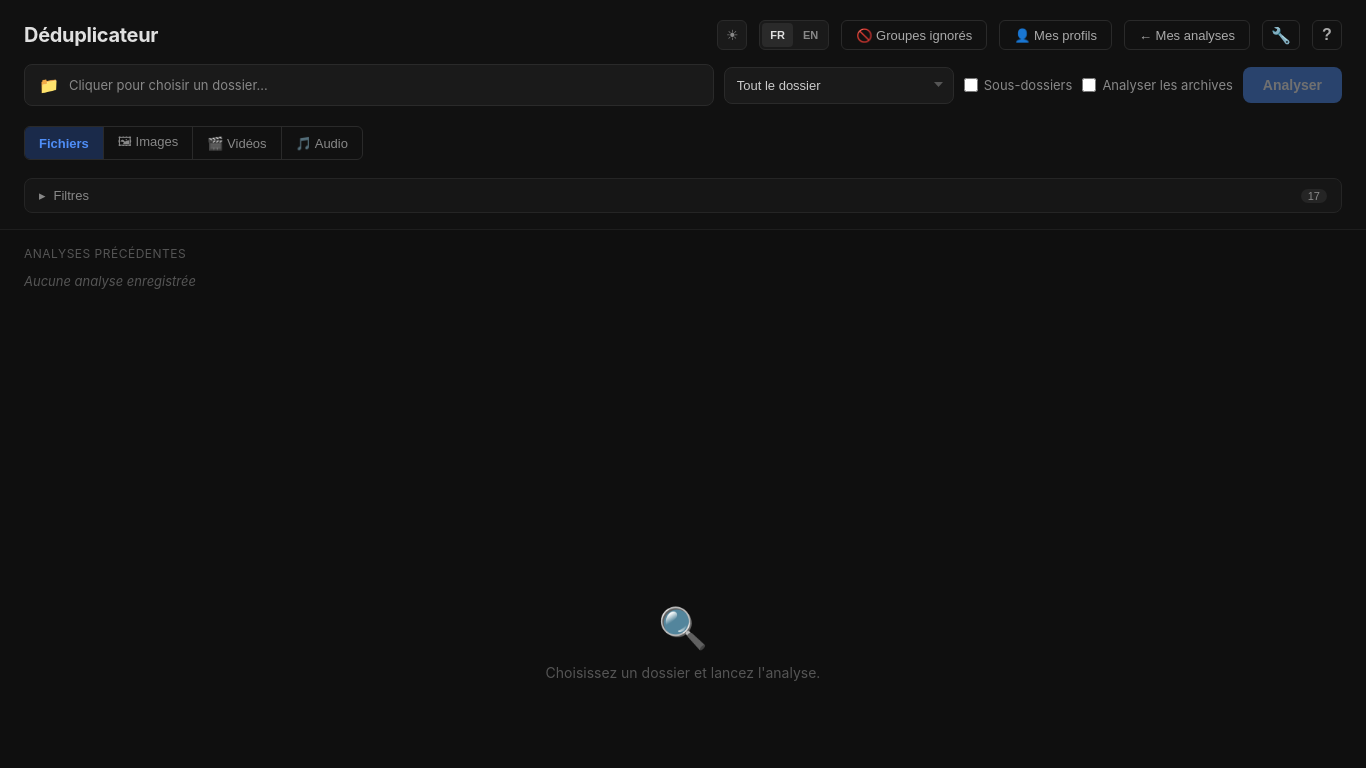
Test case: D - bannière d'erreur › affiche le message d'erreur quand scan_folder échoue
Click the text "Cliquer pour choisir un dossier…" at {"x": 168, "y": 85}, box [69, 77, 268, 93]
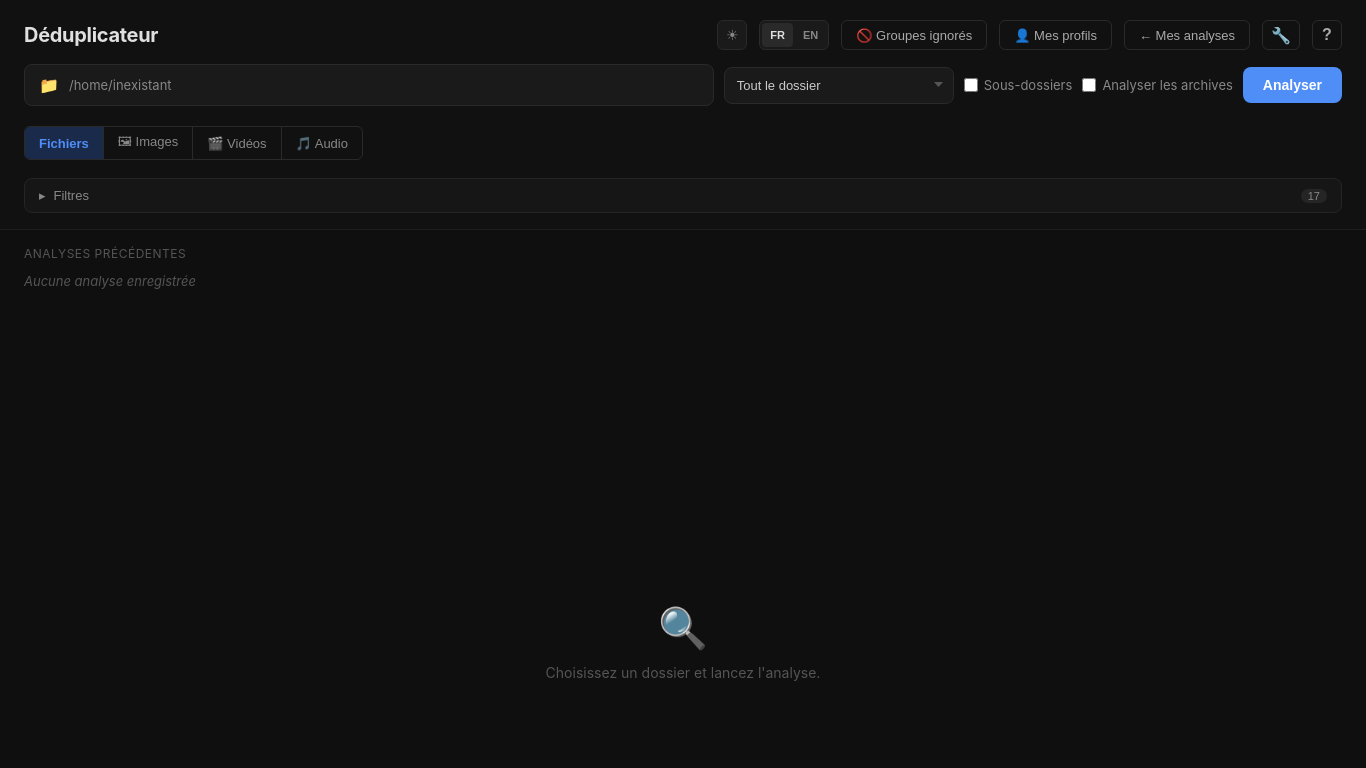
Result: the text "/home/inexistant" is shown at [69, 77, 172, 93]
Click the button "Analyser" at {"x": 1292, "y": 85}, box [1243, 67, 1342, 103]
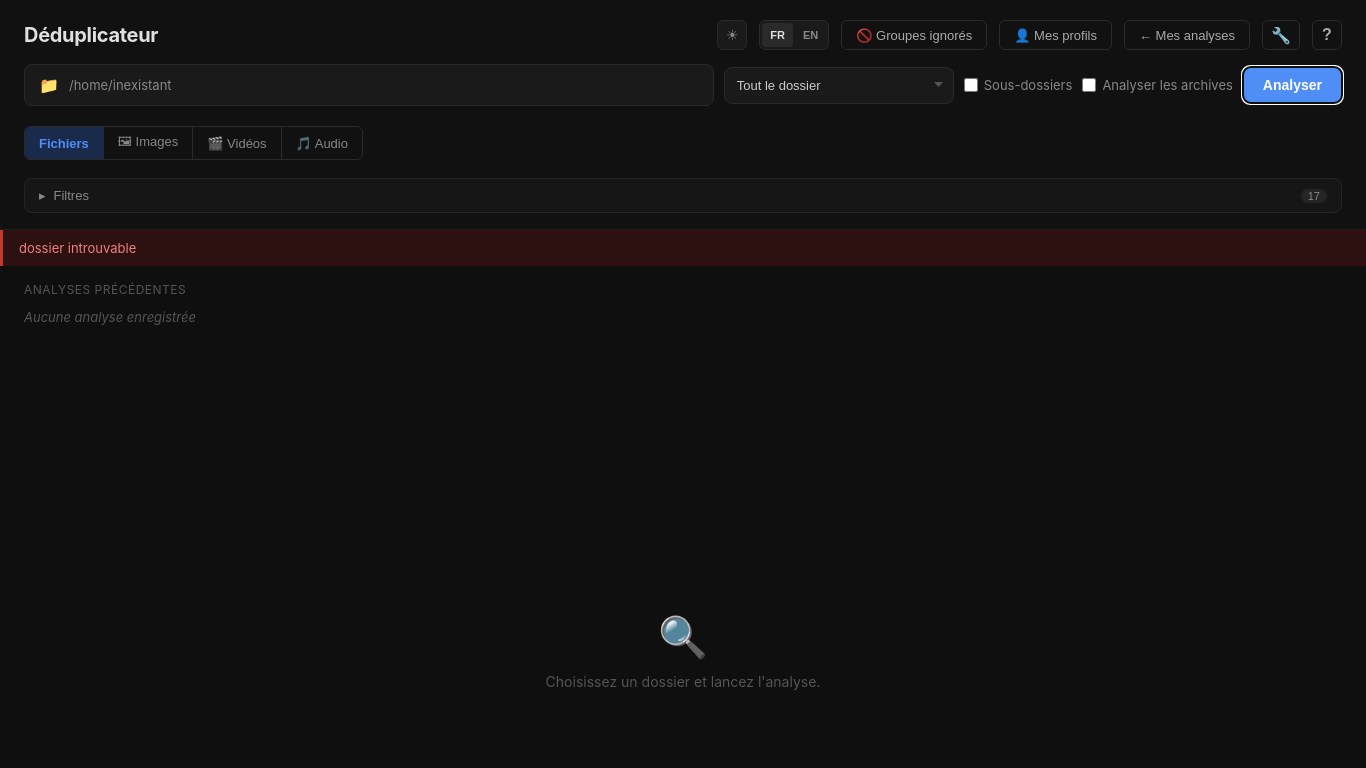
Result: the text "dossier introuvable" is shown at [0, 230, 1365, 266]
